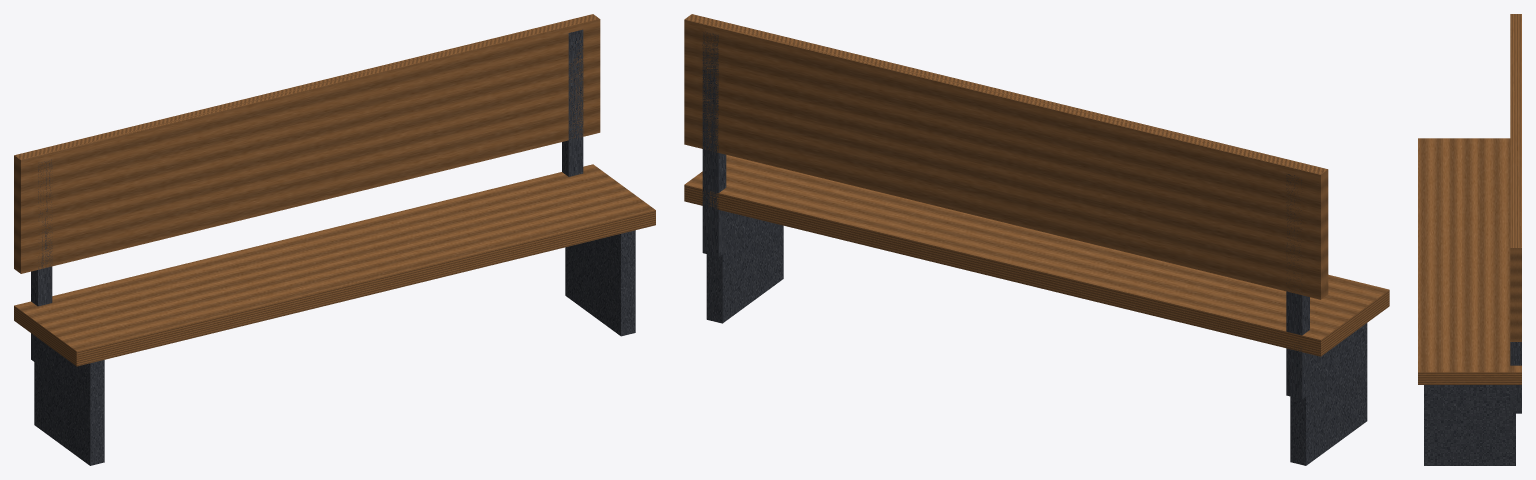
File: Banca.obj
The picture shows the model from 3 angles, left to right: view 1: azimuth 30°, elevation 25°; view 2: azimuth 150°, elevation 25°; view 3: azimuth 270°, elevation 25°; orthographic projection. The views are drawn at different scales.
Size of the model in its own units: 2.4 by 1.08 by 0.45.
2 materials, 2 textured.
